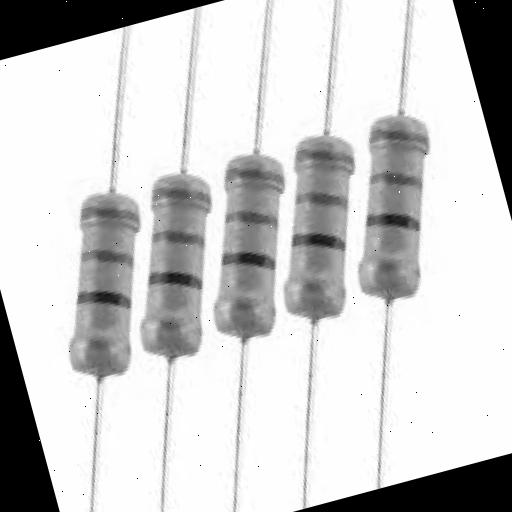RESISTOR: (153, 122, 350, 385), (298, 82, 494, 344), (0, 164, 190, 406), (86, 156, 251, 382), (238, 118, 402, 342)
